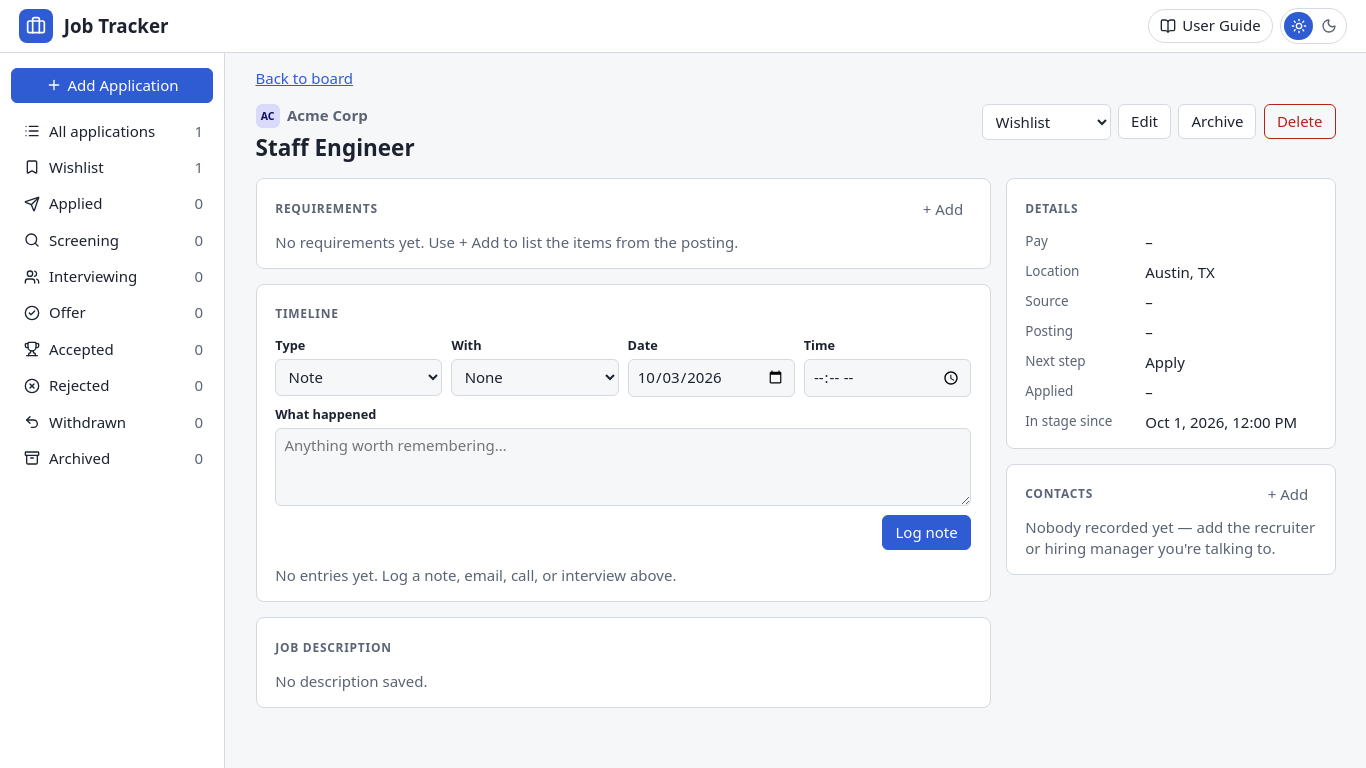
Test case: changing the stage from the page (spec 013, AC-5) › says the application doesn't exist when it was deleted elsewhere
The width and height of the screenshot is (1366, 768).
Select "Applied" in the dropdown named "Stage": (1046, 122) x1=982 y1=104 x2=1111 y2=140
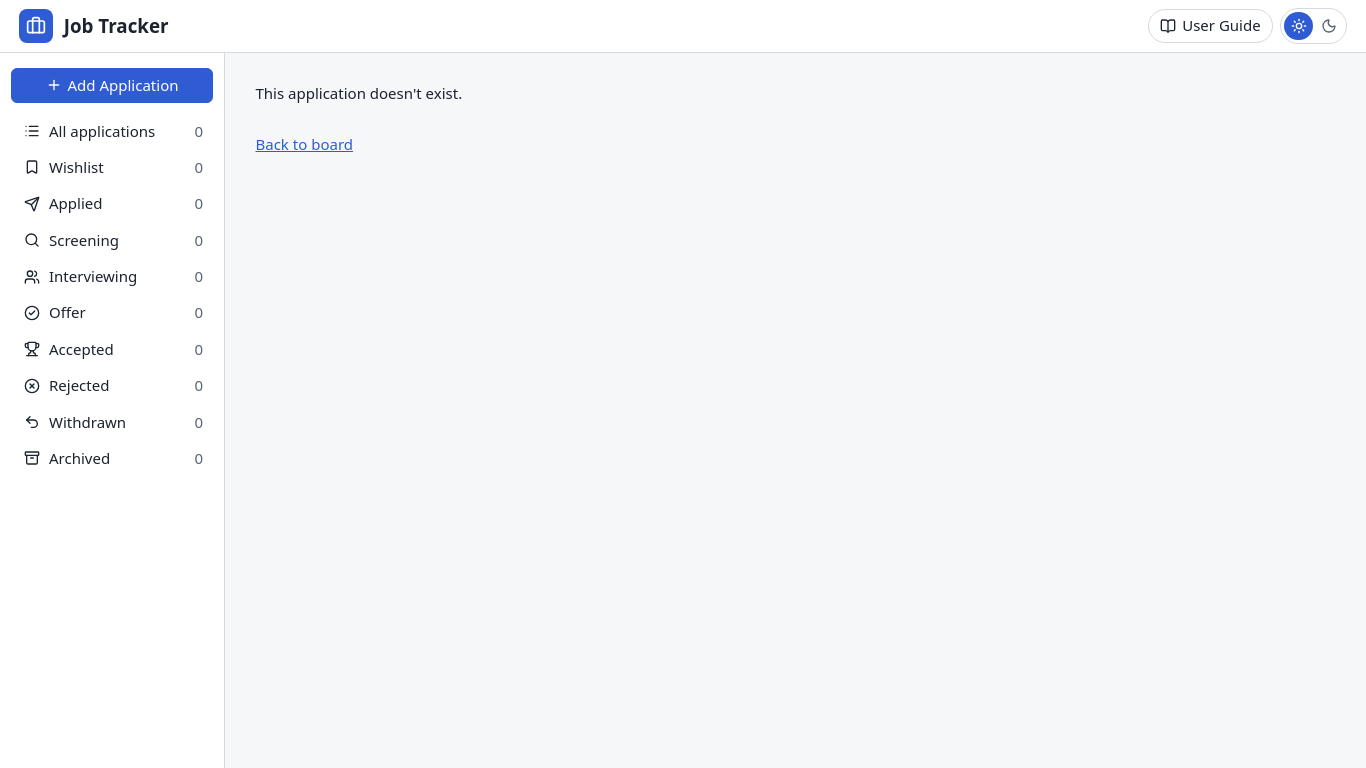
Check: the message reads "This application doesn't exist.", box x1=256 y1=82 x2=462 y2=102
